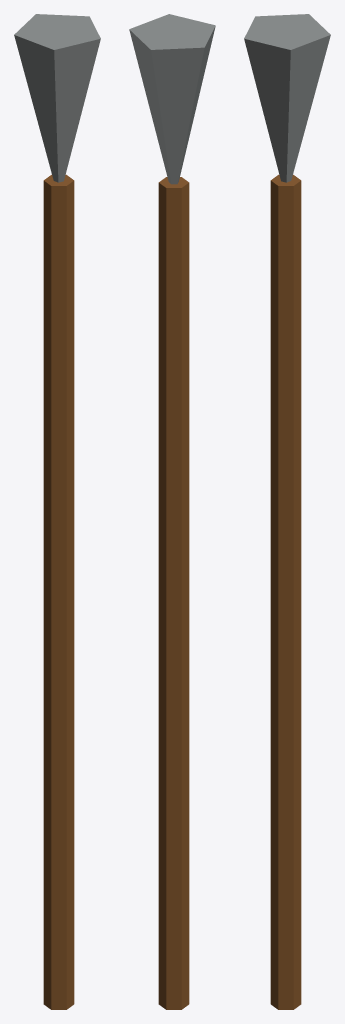
File: pieza-villager-spear-BQbKvqyH.glb
3 renders of one model, left to right at view 1: azimuth 30°, elevation 25°; view 2: azimuth 150°, elevation 25°; view 3: azimuth 330°, elevation 25°, orthographic.
Parts seen in each view (by area): view 1: prop_spear; view 2: prop_spear; view 3: prop_spear.
Part boxes in pixels (x1,y1,x2,y2): prop_spear: (14,14,100,1009); prop_spear: (129,14,215,1009); prop_spear: (244,14,330,1009).
Bounding box in the file's own units: 0.913 × 11.23 × 0.8683.
